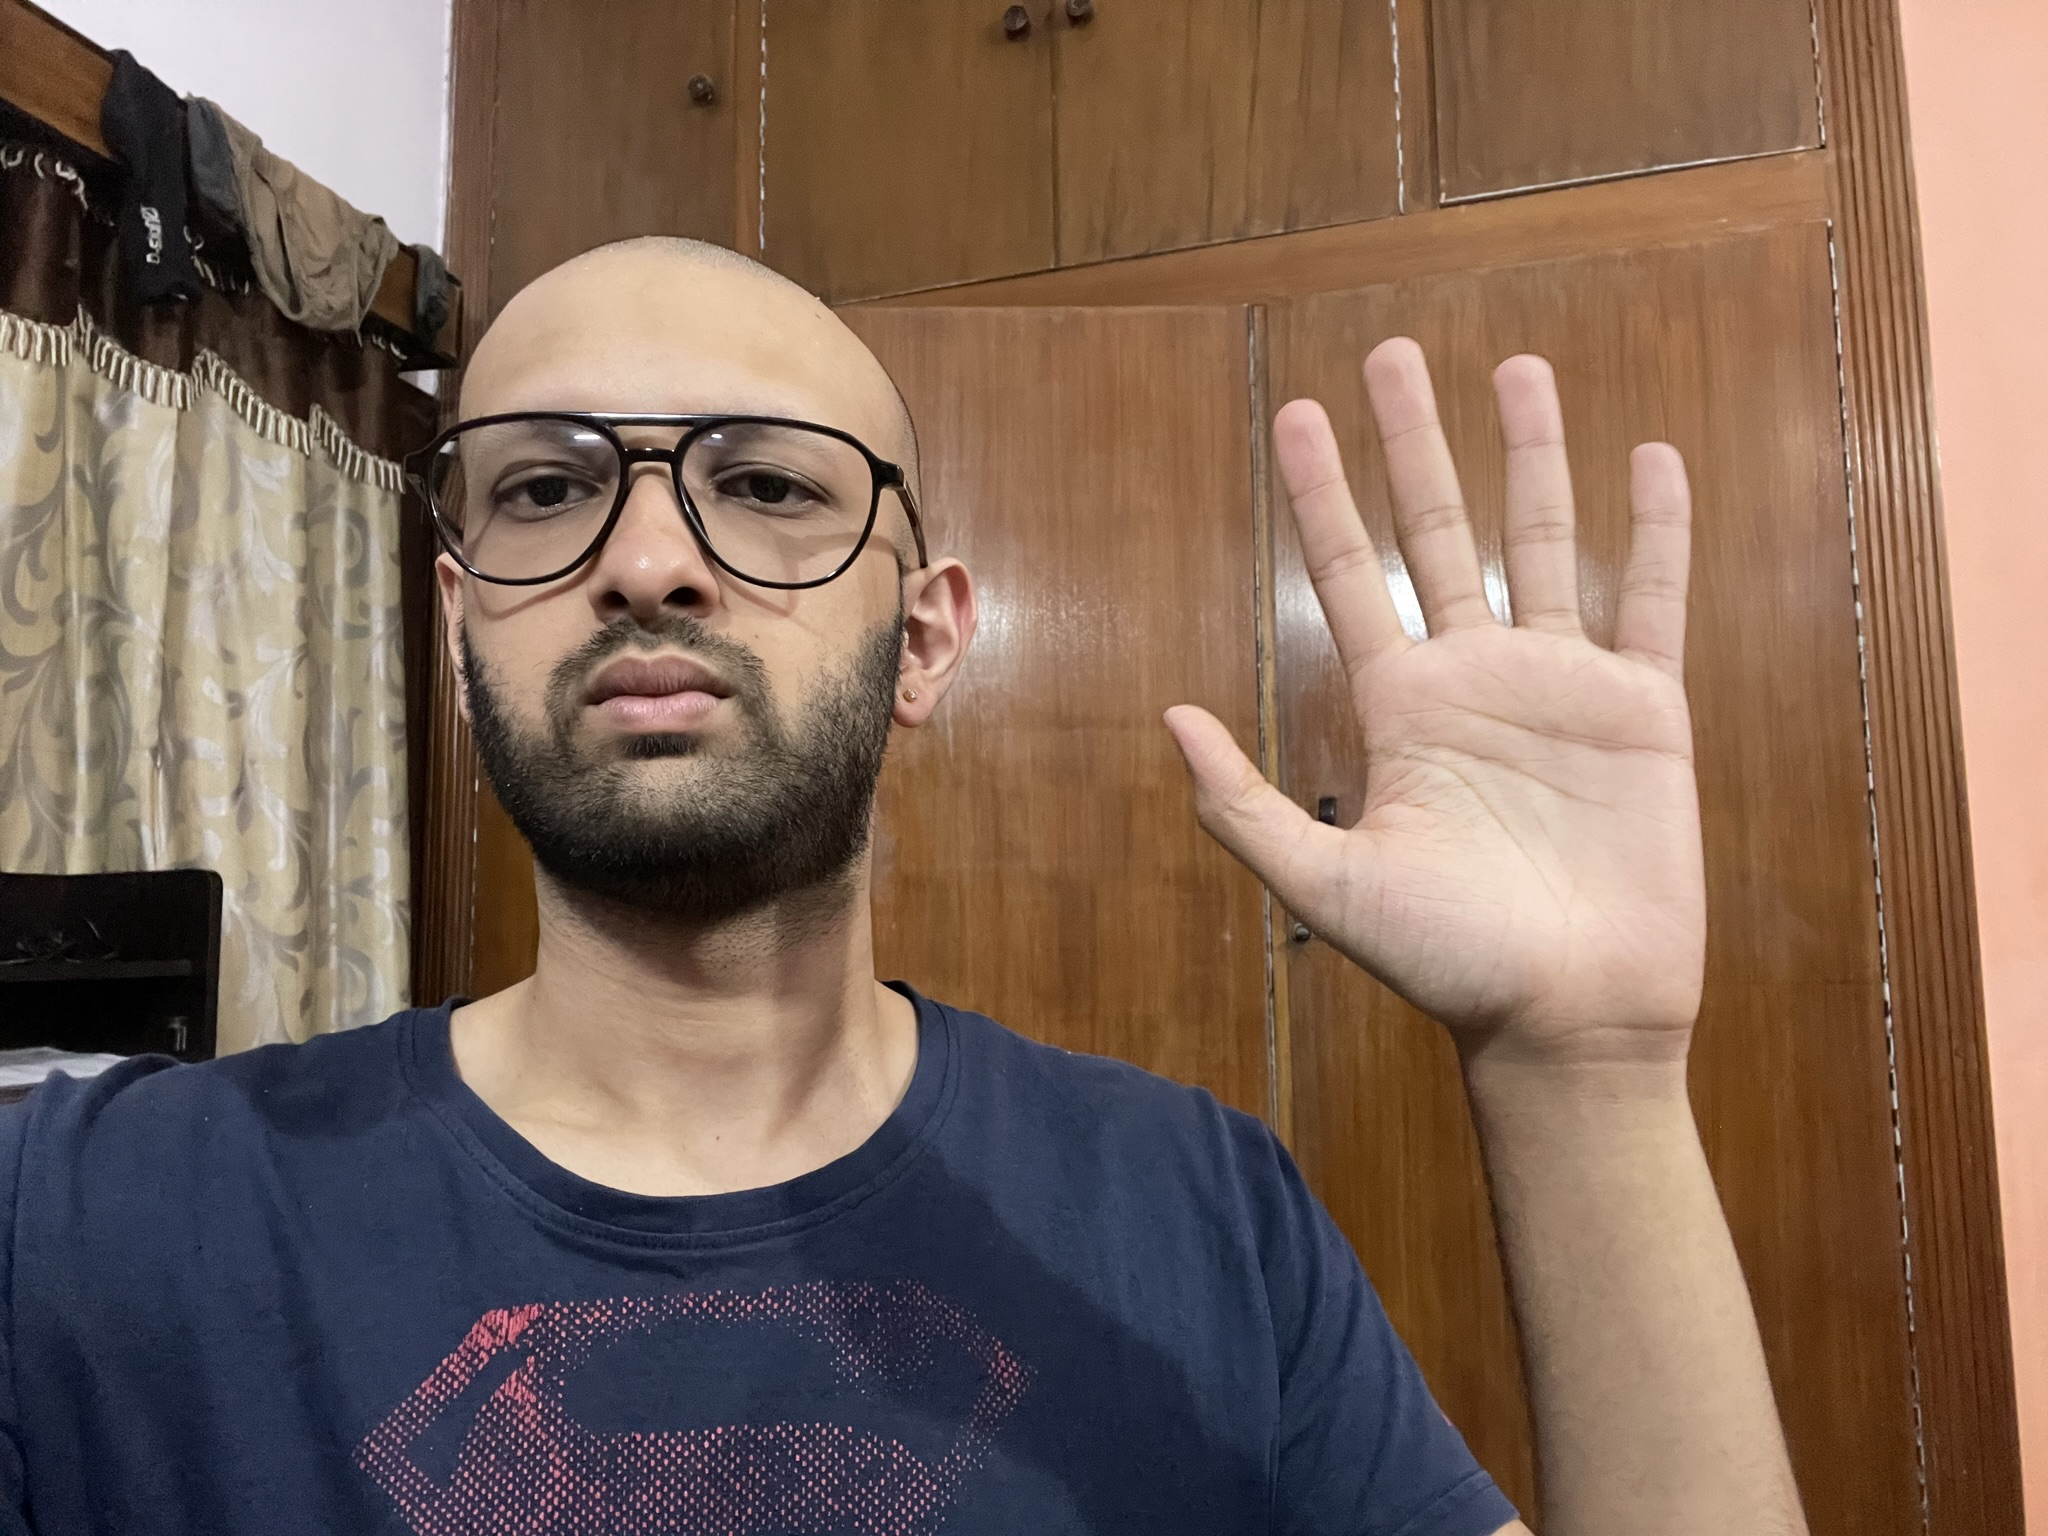Hello: (1151, 319, 1724, 1100)
